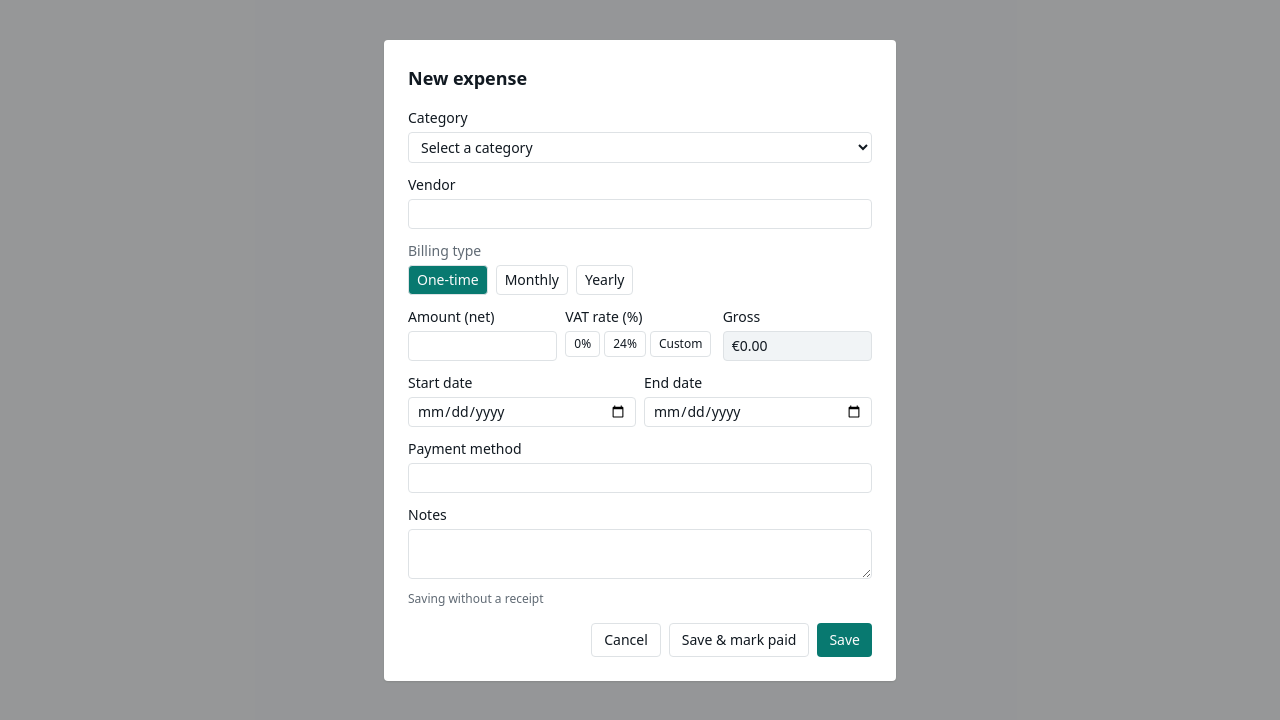
it: NewExpenseDialog — Autopay › blocks Save when autopay is on but payment method is empty
Select "Software" in the dropdown labelled "Category" at (640, 147), box [408,132,872,162]
Type "100" into the number field labelled "Amount (net)".
click(483, 346); type("100")  # box [408,330,557,360]
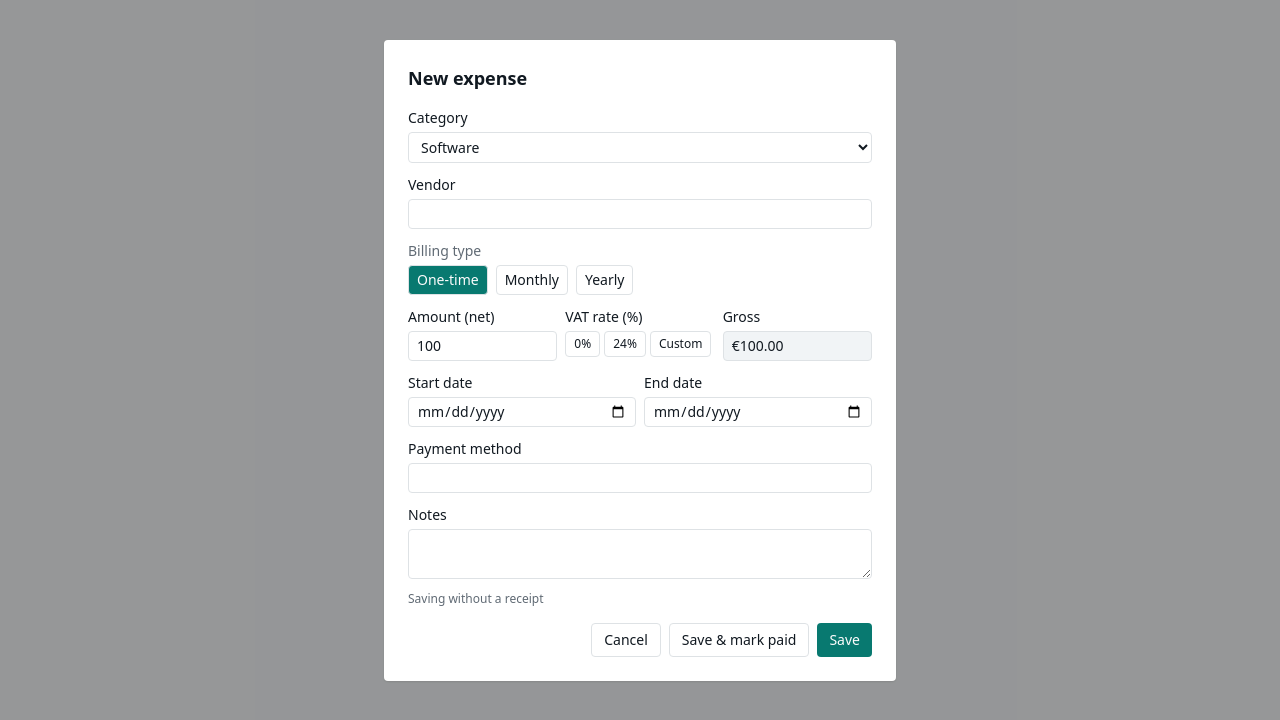
Click the button "24%".
click(625, 344)  # box [604,330,646,356]
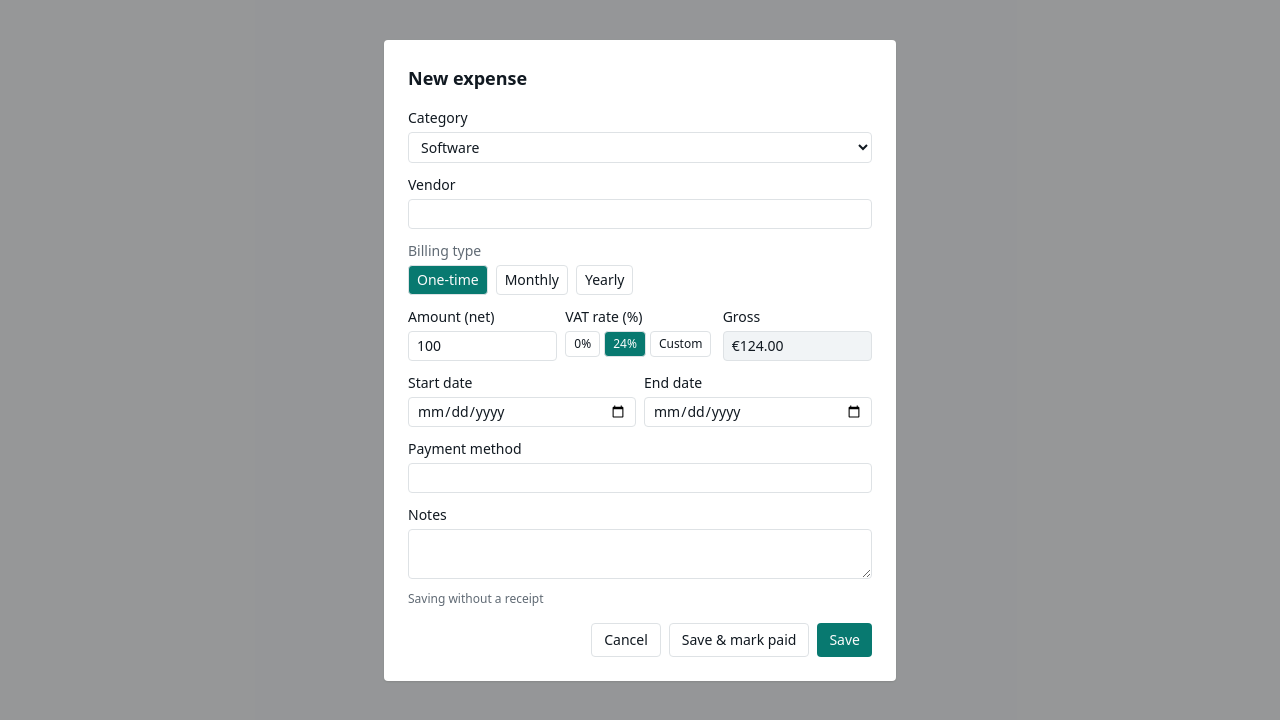
Type "2026-06-01" into the date field labelled "Start date".
click(522, 412); type("2026-06-01")  # box [408,396,636,426]
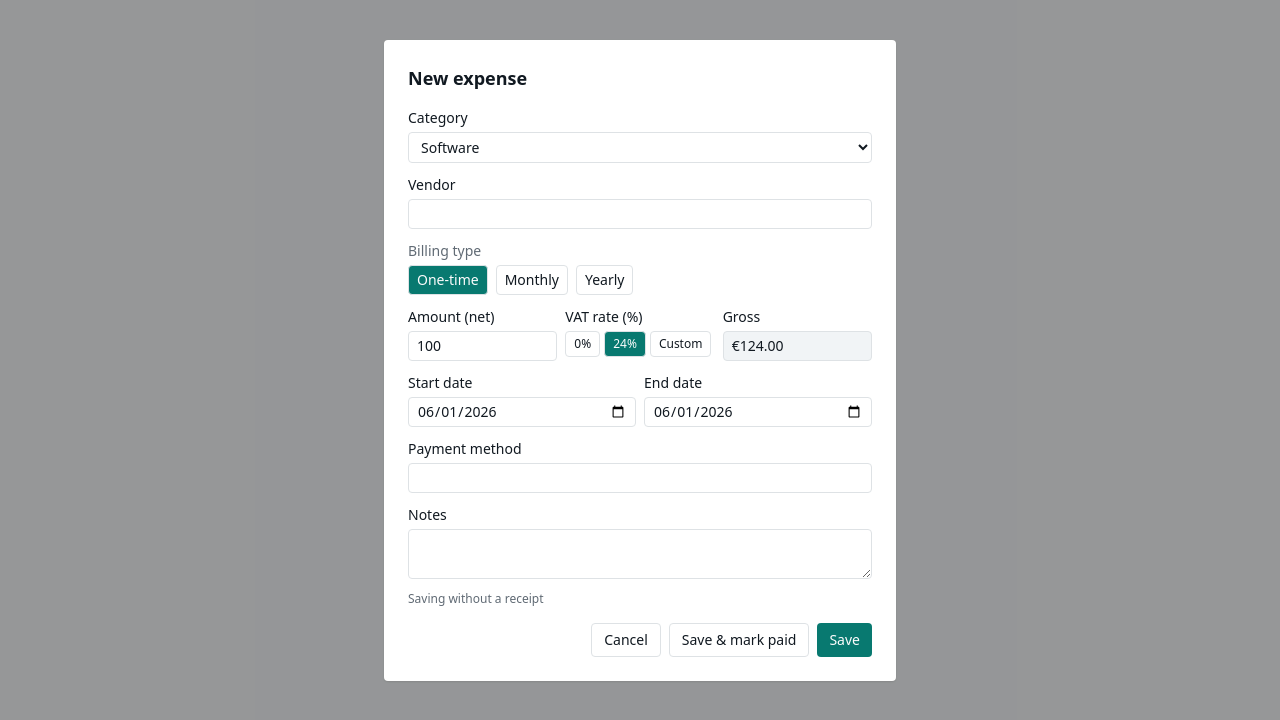
Click the button "Monthly".
click(532, 280)  # box [496,264,568,294]
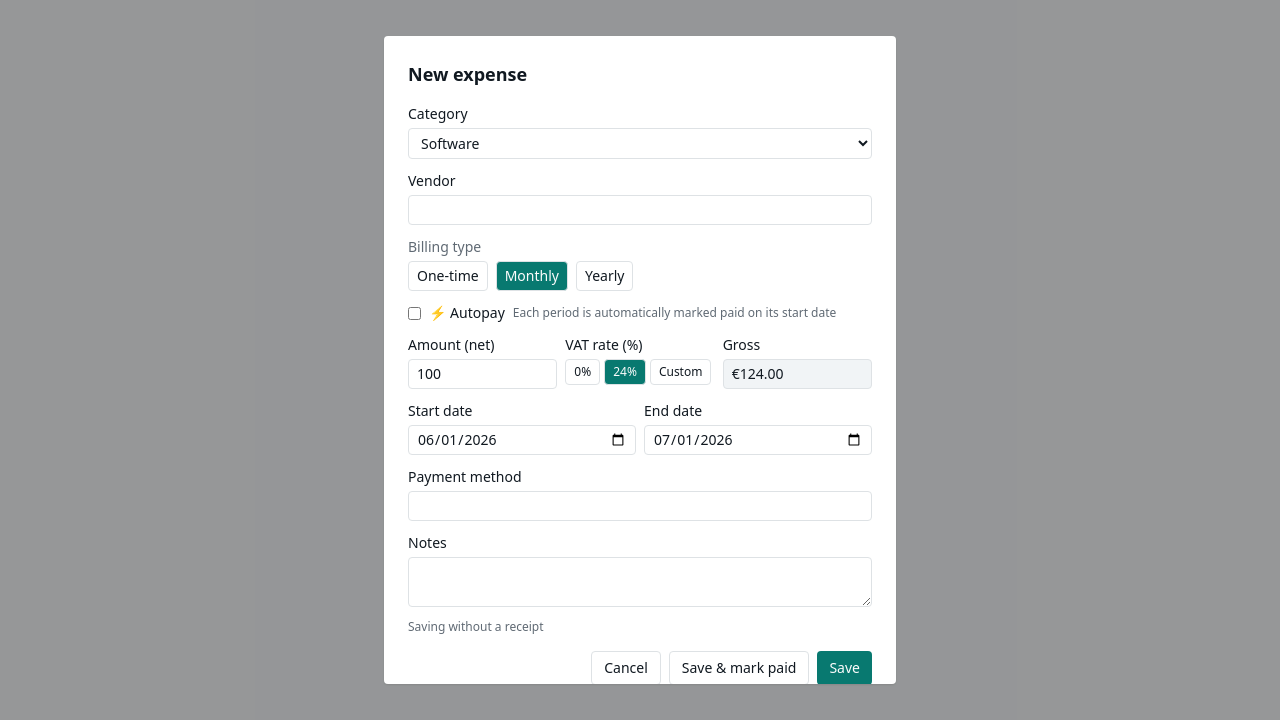
Click the checkbox labelled "Autopay".
click(414, 313)  # box [408,306,421,320]
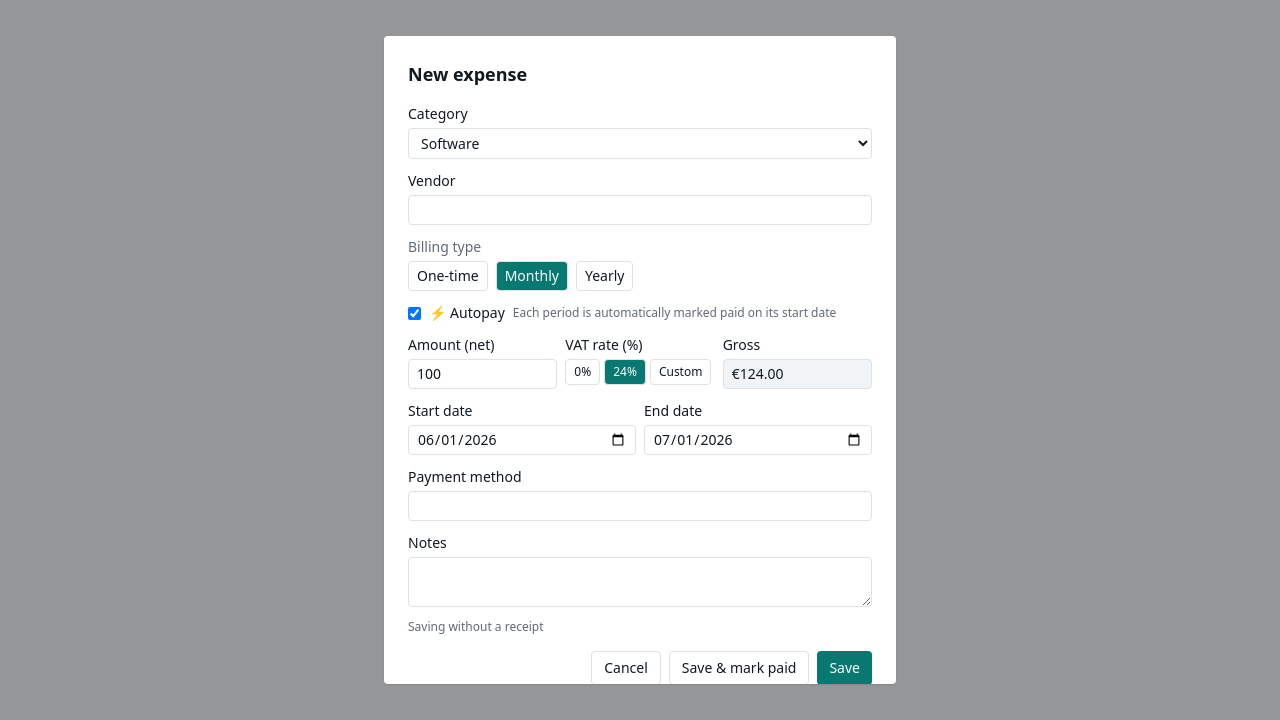
Click the button "Save".
click(845, 668)  # box [817,651,872,685]
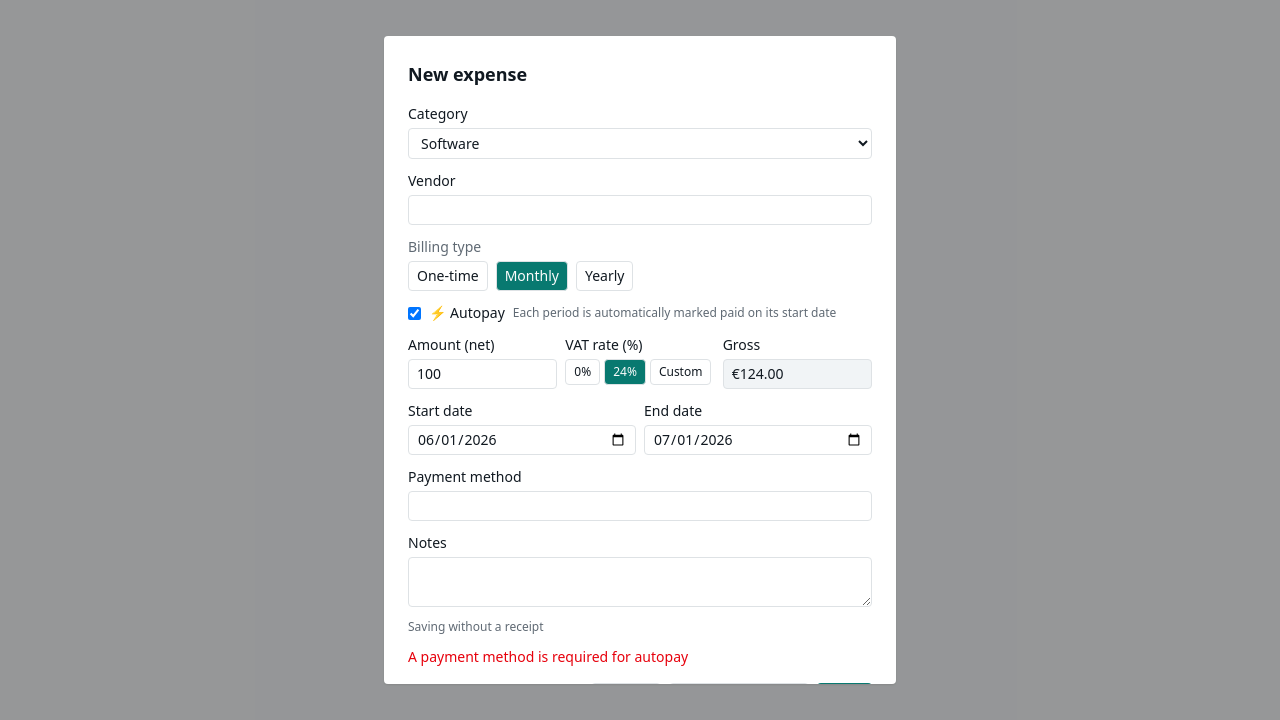
Expected: the text "A payment method is required for autopay" is shown, [408,647,688,666]
